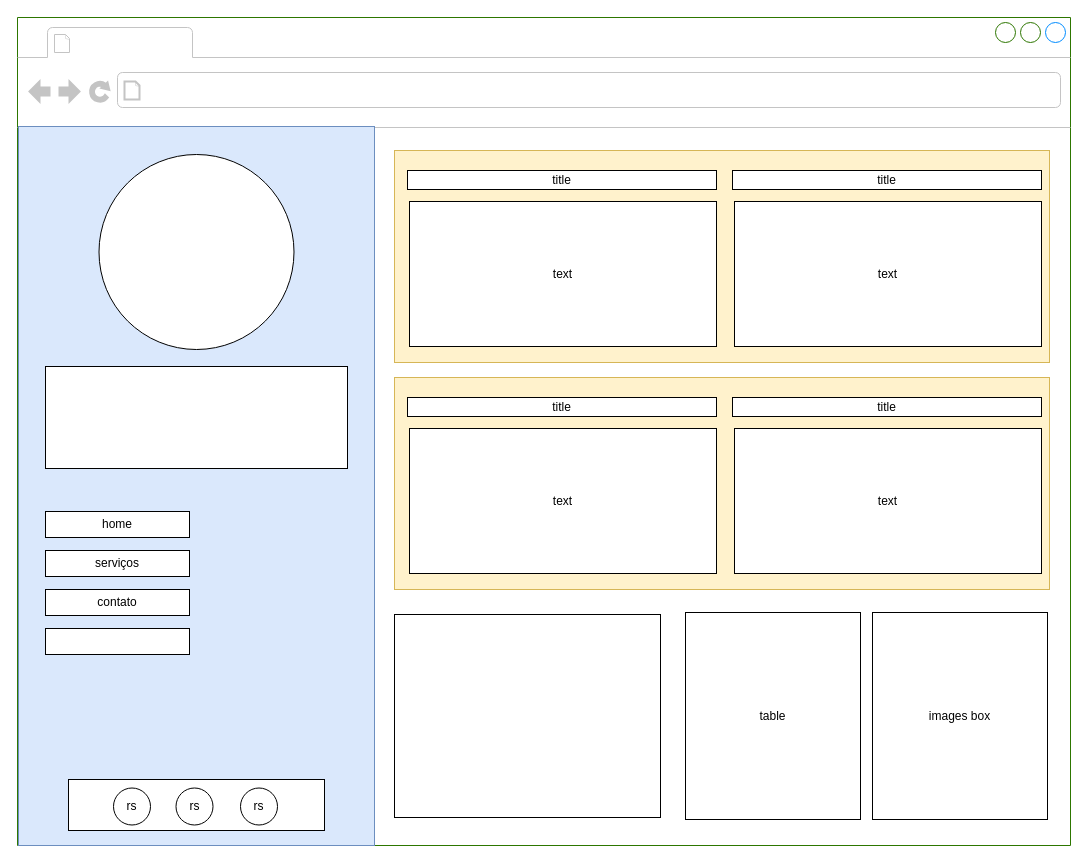
Image size: 1088x863. Some labels were removed from this diagram. The shapes that lost their labels are listed below. From the top down, each one's box as (x1, y1, x2, y2) in pixels, then its label:
(76, 28, 188, 56): curriculo kaua
(146, 76, 398, 104): https://www.curriulo.com
(98, 154, 294, 350): foto
(44, 366, 348, 468): informaçoes prinicipais
(394, 614, 660, 818): maps
